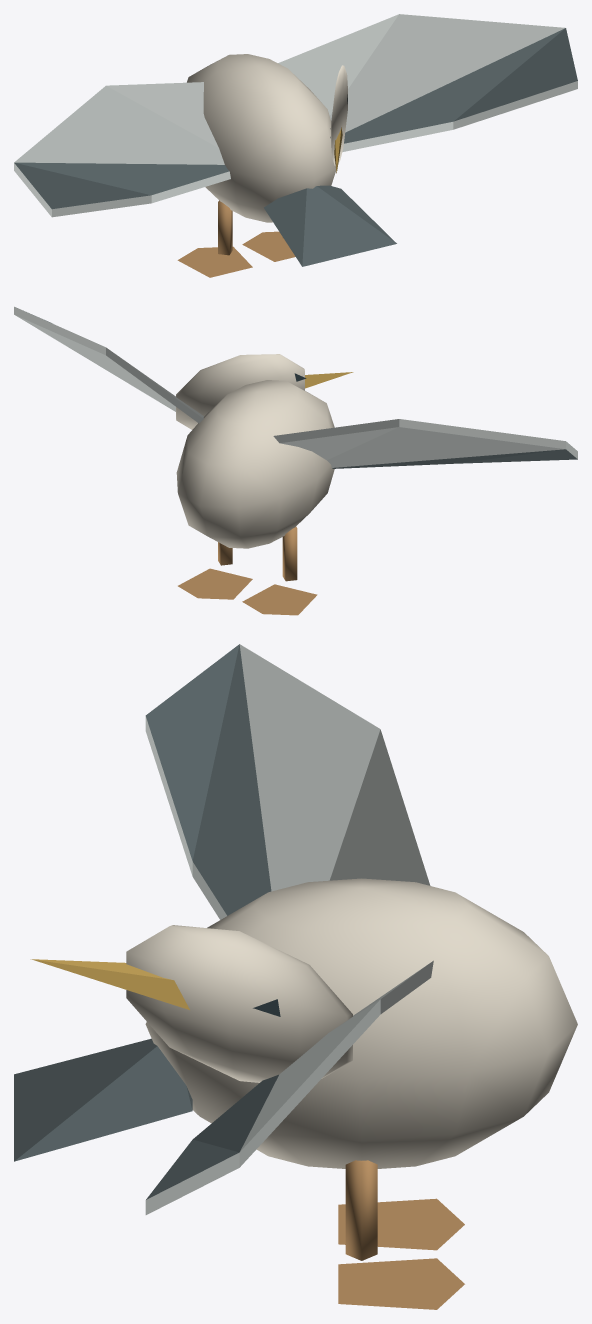
Rendered from gull.glb.
3 renders of one model, top to bottom at view 1: azimuth 30°, elevation 25°; view 2: azimuth 150°, elevation 25°; view 3: azimuth 270°, elevation 25°, orthographic. The views are drawn at different scales.
Visible parts, largest first — view 1: gull; view 2: gull; view 3: gull.
Part boxes in pixels (x1,y1,x2,y2): gull: (14, 14, 577, 277); gull: (14, 306, 577, 615); gull: (14, 644, 577, 1309).
Bounding box in the file's own units: 1.28 × 0.458 × 0.6.
